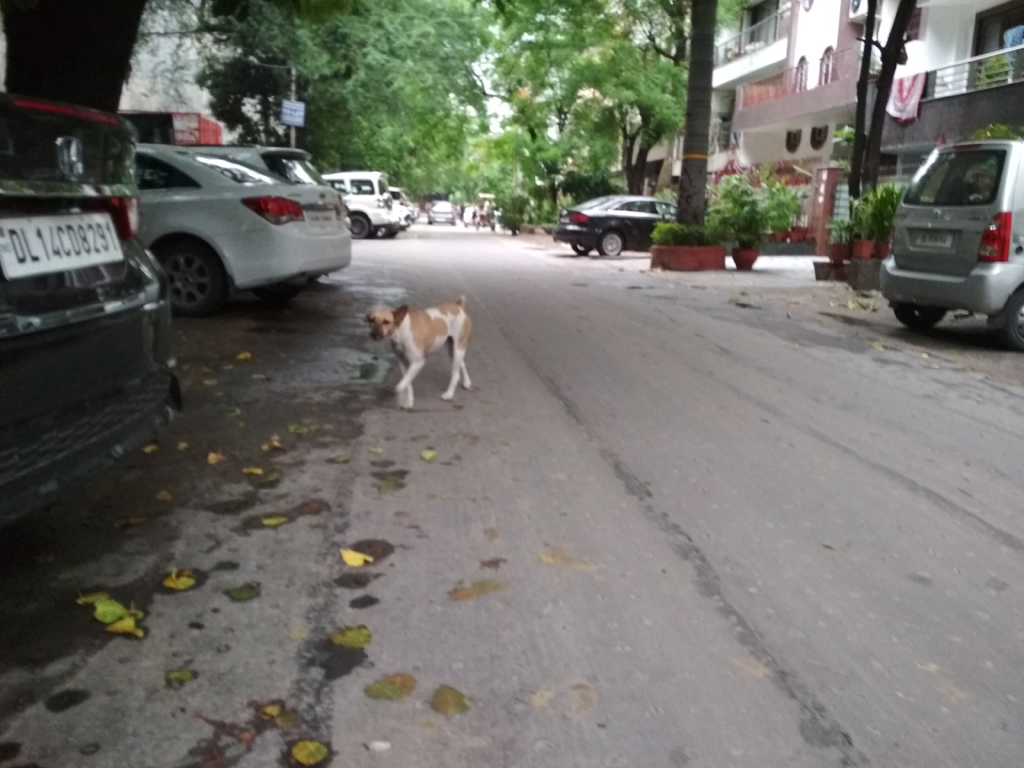dog: (364, 291, 470, 413)
